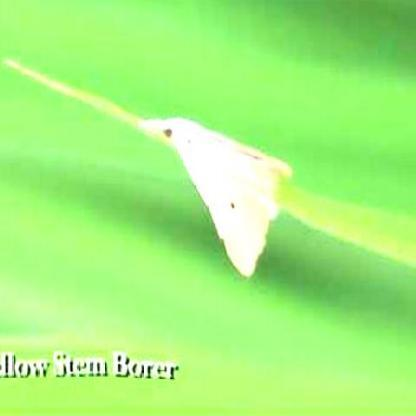stem-borer: (136, 114, 294, 280)
